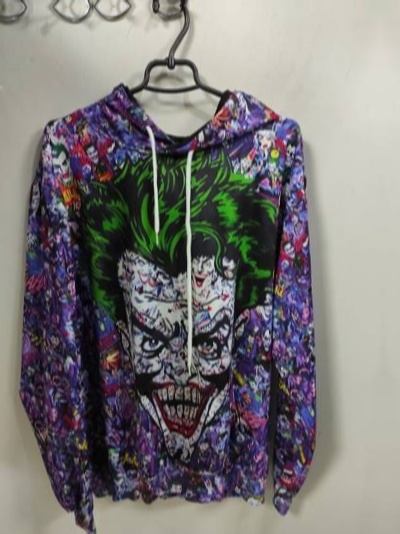Hoodie: (16, 51, 343, 510)
